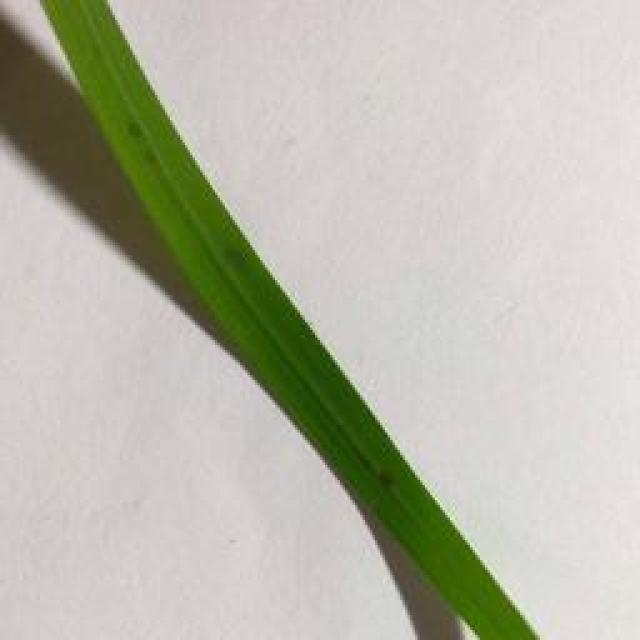Brown_Spot: (208, 240, 267, 284), (120, 107, 156, 164), (375, 457, 402, 496)
